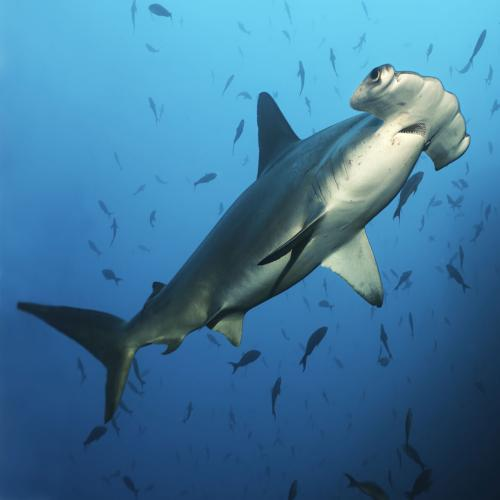shark-endangered: (15, 62, 472, 426)
